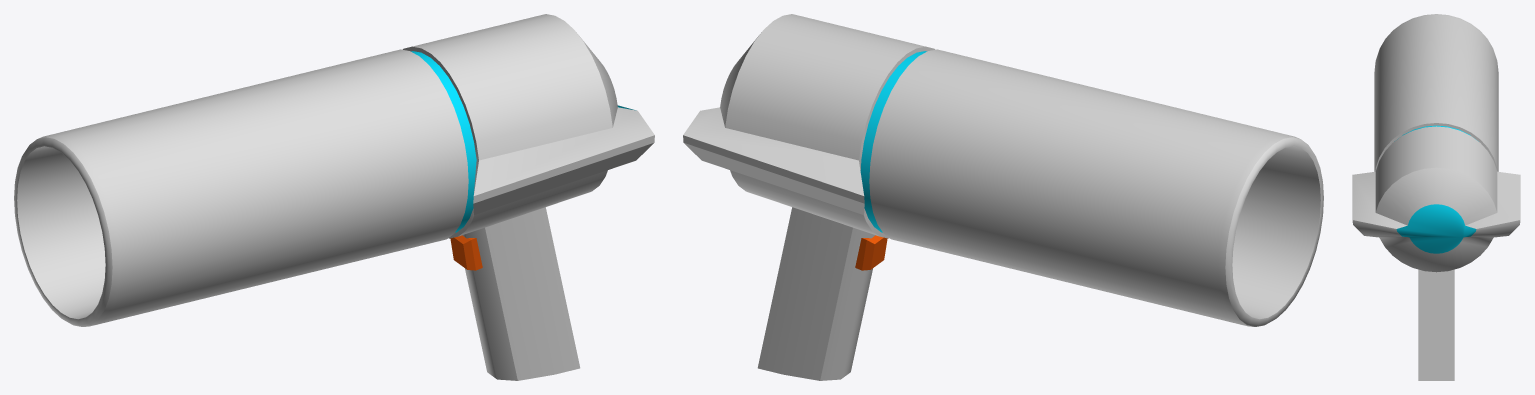
The model's file is plasma.fbx.
The picture shows the model from 3 angles, left to right: view 1: azimuth 30°, elevation 25°; view 2: azimuth 150°, elevation 25°; view 3: azimuth 270°, elevation 25°; orthographic projection. The views are drawn at different scales.
Visible parts, largest first — view 1: Cylinder; view 2: Cylinder; view 3: Cylinder.
Boxes of the visible parts, bbox=[...] form: Cylinder: bbox=[14, 14, 654, 380]; Cylinder: bbox=[683, 14, 1323, 380]; Cylinder: bbox=[1352, 14, 1520, 380].
Bounding box in the file's own units: 641 × 379 × 271.
